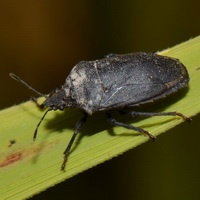insect: (0, 132, 62, 166)
